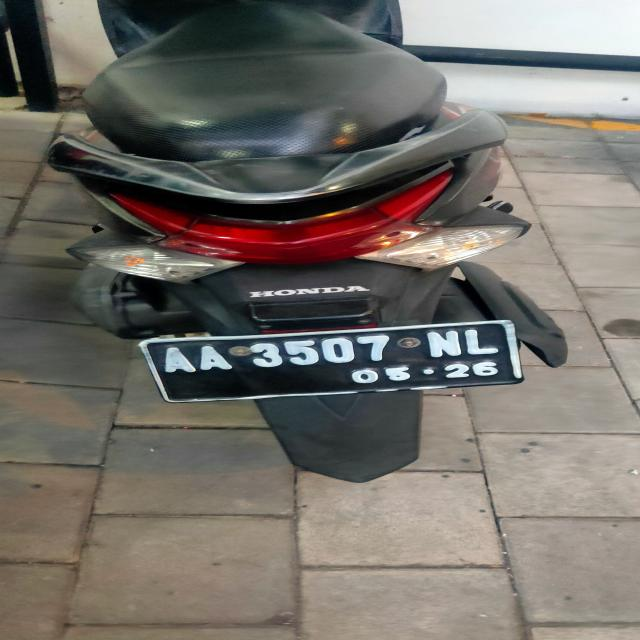License-Plate: (118, 310, 560, 411)
